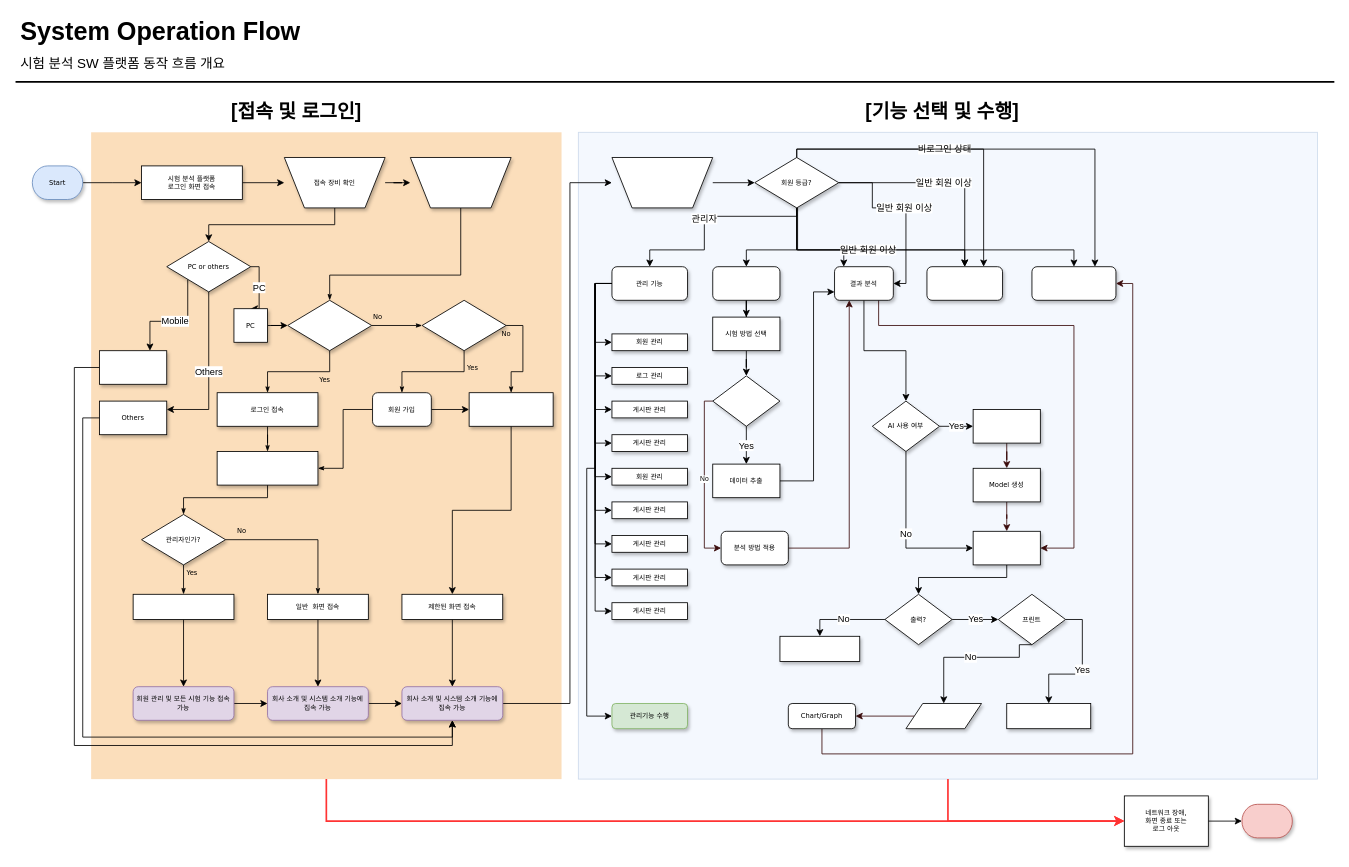
Some shapes in this 1349 by 867 pixel diagram are drawn without their labels. Here are the shapes that lost their labels. From the top down, the centre of each, then its label:
At point (461, 183): "로그인 기능 단계".
At point (663, 183): "기능 선택 및 기능 수행 단계".
At point (747, 284): "시험 기능".
At point (965, 284): "제품 소개 및 문의".
At point (1074, 284): "게시판 및 공유 관리".
At point (330, 326): "회원 여부 확인".
At point (464, 326): "가입 여부 확인".
At point (133, 368): "Mobile/Tablet".
At point (511, 410): "비로그인 상태 진행".
At point (747, 402): "데이터 필요?".
At point (1007, 427): "Traing".
At point (268, 469): "로그인".
At point (1007, 549): "분석 결과".
At point (184, 607): "관리자 전용 화면 접속".
At point (820, 649): "결과 데이터 DataBase 저장".
At point (944, 717): "화면 출력".
At point (1049, 717): "레포트 생성".
At point (1267, 822): "End".
